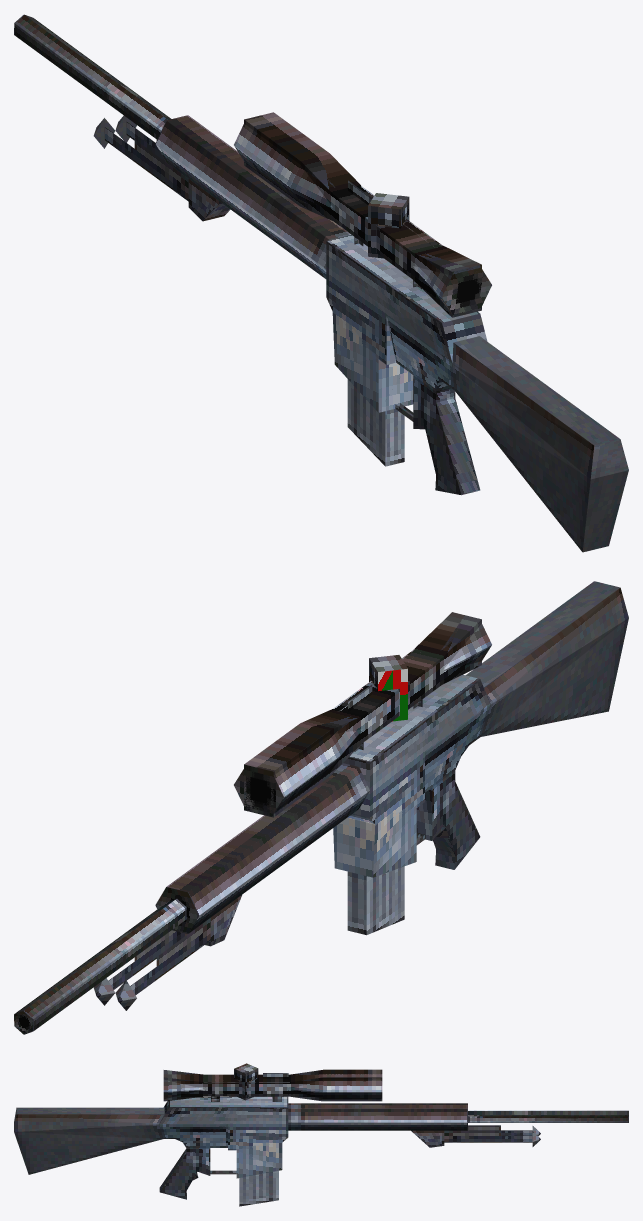
The model's file is recovered_gun_stoner_sr25.glb.
3 views of the same model, one above another, from view 1: azimuth 30°, elevation 25°; view 2: azimuth 150°, elevation 25°; view 3: azimuth 270°, elevation 25° (orthographic). The views are drawn at different scales.
Parts seen in each view (by area): view 1: Gun_05c8ab4a692c; view 2: Gun_05c8ab4a692c, Gun_feaf419e5adb; view 3: Gun_05c8ab4a692c.
Boxes of the visible parts, x1,y1,x2,y2 form: Gun_05c8ab4a692c: (14,14,628,552); Gun_05c8ab4a692c: (14,581,628,1034); Gun_feaf419e5adb: (378,668,407,721); Gun_05c8ab4a692c: (14,1063,628,1206).
Size of the model in its own units: 0.0526 by 0.2578 by 1.06.
Materials: 2 (2 with a texture image).
